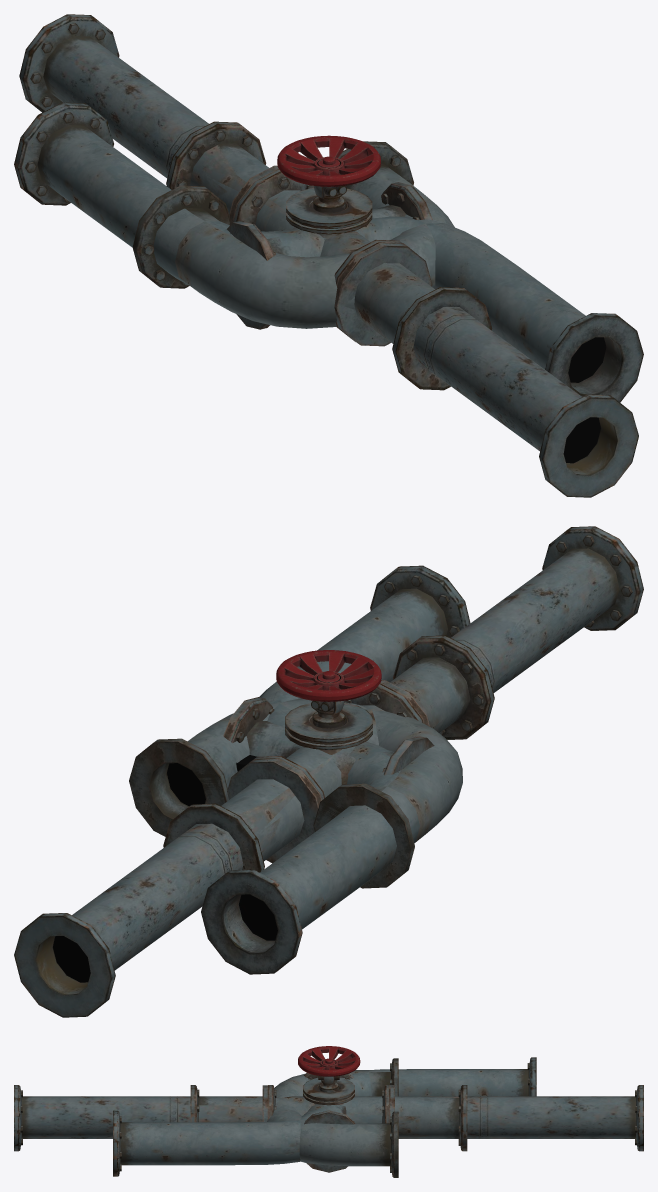
The model's file is modular_industrial_pipes_01_1k.gltf.
The picture shows the model from 3 angles, top to bottom: view 1: azimuth 30°, elevation 25°; view 2: azimuth 150°, elevation 25°; view 3: azimuth 270°, elevation 25°; orthographic projection. The views are drawn at different scales.
Parts seen in each view (by area): view 1: modular_industrial_pipes_01_pipe02, modular_industrial_pipes_01_pipe03, modular_industrial_pipes_01_pipe05, modular_industrial_pipes_01_pipe01, modular_industrial_pipes_01_pipe08, modular_industrial_pipes_01_pipe07, modular_industrial_pipes_01_pipe06; view 2: modular_industrial_pipes_01_pipe02, modular_industrial_pipes_01_pipe03, modular_industrial_pipes_01_pipe05, modular_industrial_pipes_01_pipe01, modular_industrial_pipes_01_pipe08, modular_industrial_pipes_01_pipe06, modular_industrial_pipes_01_pipe07; view 3: modular_industrial_pipes_01_pipe02, modular_industrial_pipes_01_pipe03, modular_industrial_pipes_01_pipe05, modular_industrial_pipes_01_pipe01, modular_industrial_pipes_01_pipe08, modular_industrial_pipes_01_pipe06, modular_industrial_pipes_01_pipe07.
Boxes of the visible parts, left/top/right/bottom form: modular_industrial_pipes_01_pipe02: left=19, top=14, right=638, bottom=497; modular_industrial_pipes_01_pipe03: left=14, top=102, right=643, bottom=402; modular_industrial_pipes_01_pipe05: left=132, top=141, right=454, bottom=328; modular_industrial_pipes_01_pipe01: left=166, top=121, right=492, bottom=390; modular_industrial_pipes_01_pipe08: left=233, top=135, right=402, bottom=341; modular_industrial_pipes_01_pipe07: left=229, top=165, right=432, bottom=346; modular_industrial_pipes_01_pipe06: left=227, top=182, right=432, bottom=329; modular_industrial_pipes_01_pipe02: left=14, top=526, right=643, bottom=1017; modular_industrial_pipes_01_pipe03: left=201, top=565, right=470, bottom=974; modular_industrial_pipes_01_pipe05: left=129, top=698, right=462, bottom=888; modular_industrial_pipes_01_pipe01: left=163, top=635, right=494, bottom=872; modular_industrial_pipes_01_pipe08: left=236, top=650, right=423, bottom=800; modular_industrial_pipes_01_pipe06: left=223, top=697, right=434, bottom=863; modular_industrial_pipes_01_pipe07: left=232, top=680, right=429, bottom=808; modular_industrial_pipes_01_pipe02: left=14, top=1085, right=643, bottom=1151; modular_industrial_pipes_01_pipe03: left=113, top=1057, right=536, bottom=1176; modular_industrial_pipes_01_pipe05: left=267, top=1058, right=398, bottom=1177; modular_industrial_pipes_01_pipe01: left=190, top=1085, right=467, bottom=1151; modular_industrial_pipes_01_pipe08: left=268, top=1046, right=389, bottom=1123; modular_industrial_pipes_01_pipe06: left=304, top=1073, right=391, bottom=1172; modular_industrial_pipes_01_pipe07: left=262, top=1073, right=394, bottom=1121.
Size of what is drawn, in the model's own units: 0.6067 by 0.3076 by 1.95.
2 materials, 2 textured.
